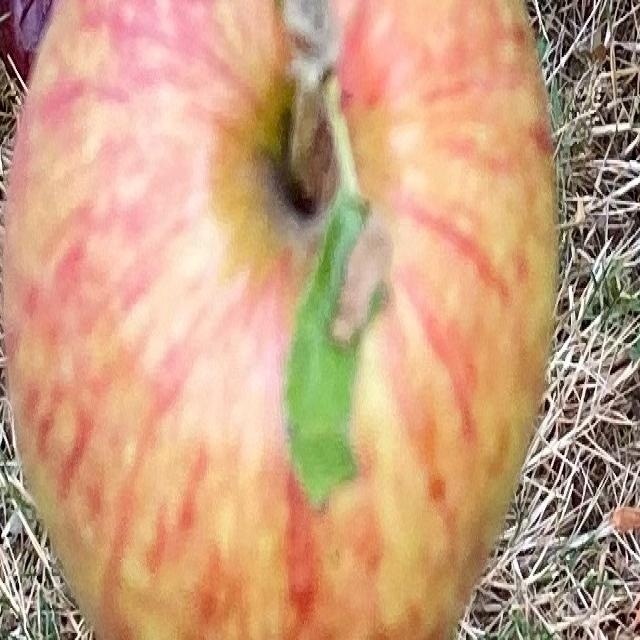100-_ripeness: (4, 0, 559, 640)
